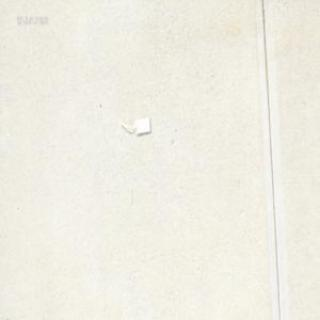LuggageTagtrack_idkeyframe: (117, 116, 150, 135)
